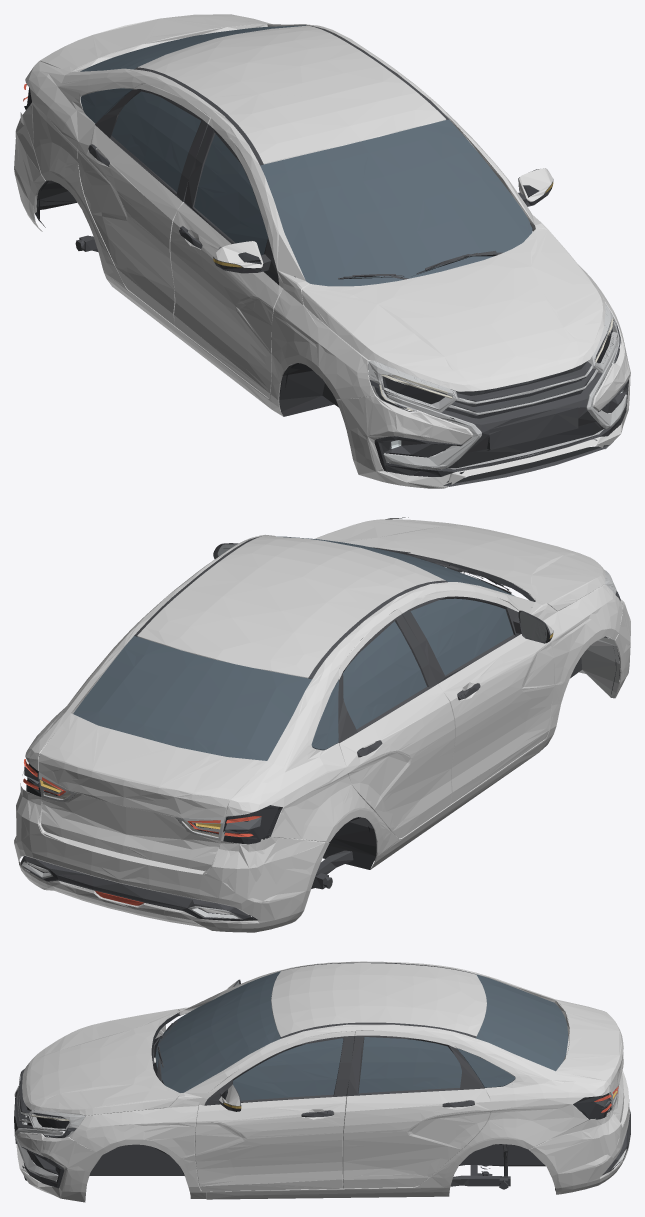
The model's file is vesta.glb.
3 renders of one model, top to bottom at view 1: azimuth 30°, elevation 25°; view 2: azimuth 150°, elevation 25°; view 3: azimuth 270°, elevation 25°, orthographic. The views are drawn at different scales.
Visible parts, largest first — view 1: paint, detail, lo-paint, lo-detail; view 2: paint, detail, lo-paint, lo-detail, lights; view 3: paint, detail, lo-paint, lo-detail.
Part boxes in pixels (x1=…): paint: x1=14, y1=14, x2=630, y2=488; detail: x1=24, y1=25, x2=628, y2=486; lo-paint: x1=14, y1=18, x2=630, y2=471; lo-detail: x1=37, y1=25, x2=626, y2=482; paint: x1=14, y1=519, x2=630, y2=932; detail: x1=20, y1=517, x2=620, y2=920; lo-paint: x1=16, y1=519, x2=630, y2=923; lo-detail: x1=25, y1=537, x2=546, y2=910; lights: x1=24, y1=633, x2=553, y2=905; paint: x1=16, y1=961, x2=630, y2=1202; detail: x1=14, y1=962, x2=630, y2=1190; lo-paint: x1=22, y1=963, x2=629, y2=1192; lo-detail: x1=15, y1=976, x2=630, y2=1186.
Size of the model in its own units: 2.07 by 1.33 by 4.43.
